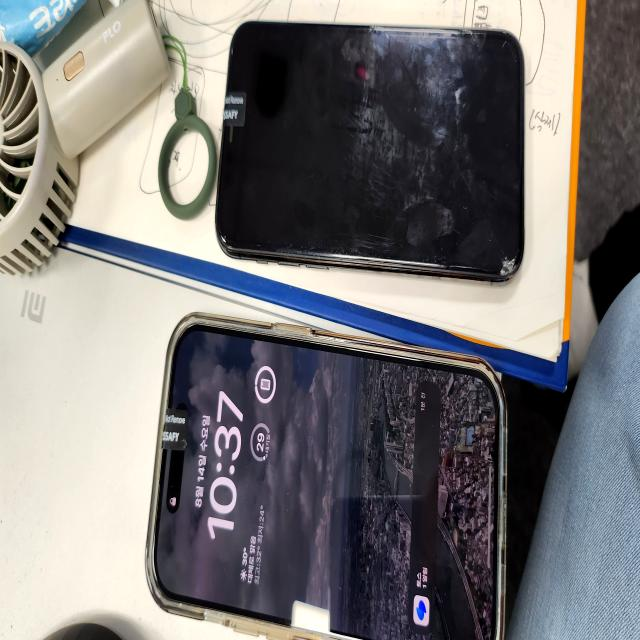phone: (145, 311, 509, 640), (216, 22, 526, 289)
sticker: (160, 405, 190, 450), (222, 91, 248, 126)
